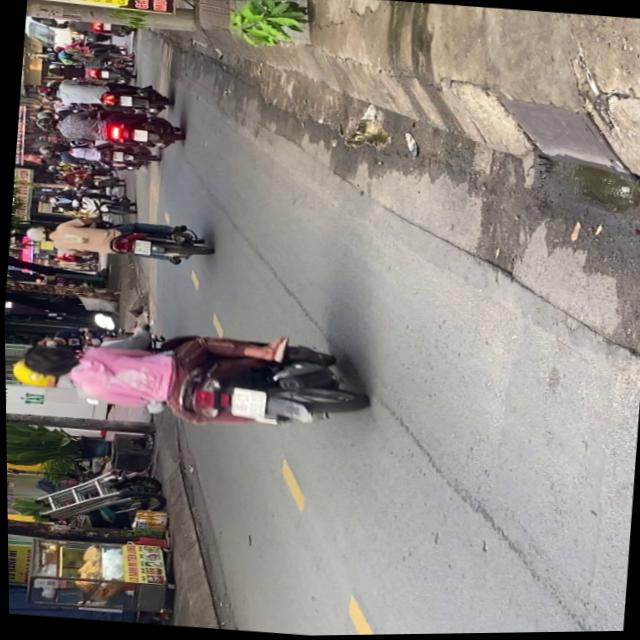helmet: (9, 358, 65, 390), (23, 224, 50, 243), (33, 116, 59, 131)
licenseplate: (5, 310, 372, 446), (20, 209, 211, 270), (30, 102, 184, 152)
motorcyclist: (17, 341, 80, 379)
nohelmet: (228, 386, 265, 419), (131, 239, 150, 255), (133, 128, 148, 141)
